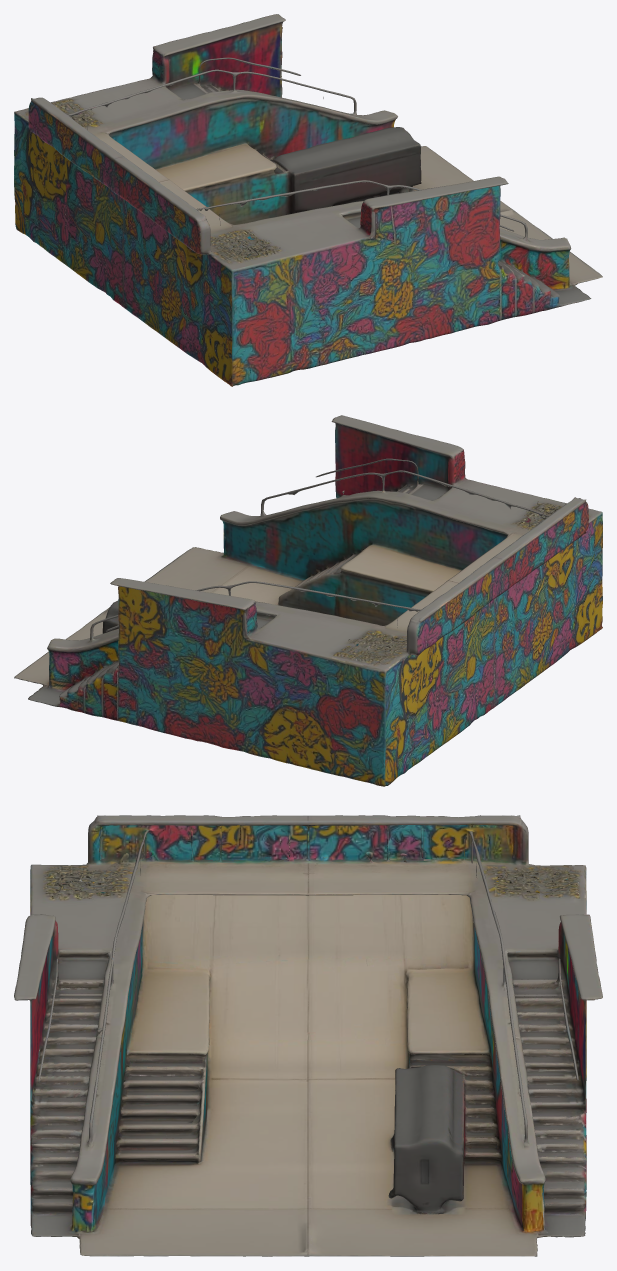
Rendered from skate_park_environment_model_fbx.fbx.
The picture shows the model from 3 angles, top to bottom: view 1: azimuth 30°, elevation 25°; view 2: azimuth 150°, elevation 25°; view 3: azimuth 270°, elevation 25°; orthographic projection. The views are drawn at different scales.
Parts seen in each view (by area): view 1: mesh_b95b; view 2: mesh_b95b; view 3: mesh_b95b.
Boxes of the visible parts, <box> form: mesh_b95b: <box>14,14,602,386</box>; mesh_b95b: <box>14,415,602,786</box>; mesh_b95b: <box>14,815,602,1256</box>.
Bounding box in the file's own units: 3.33 × 1.2 × 3.32.
1 material, 1 textured.
